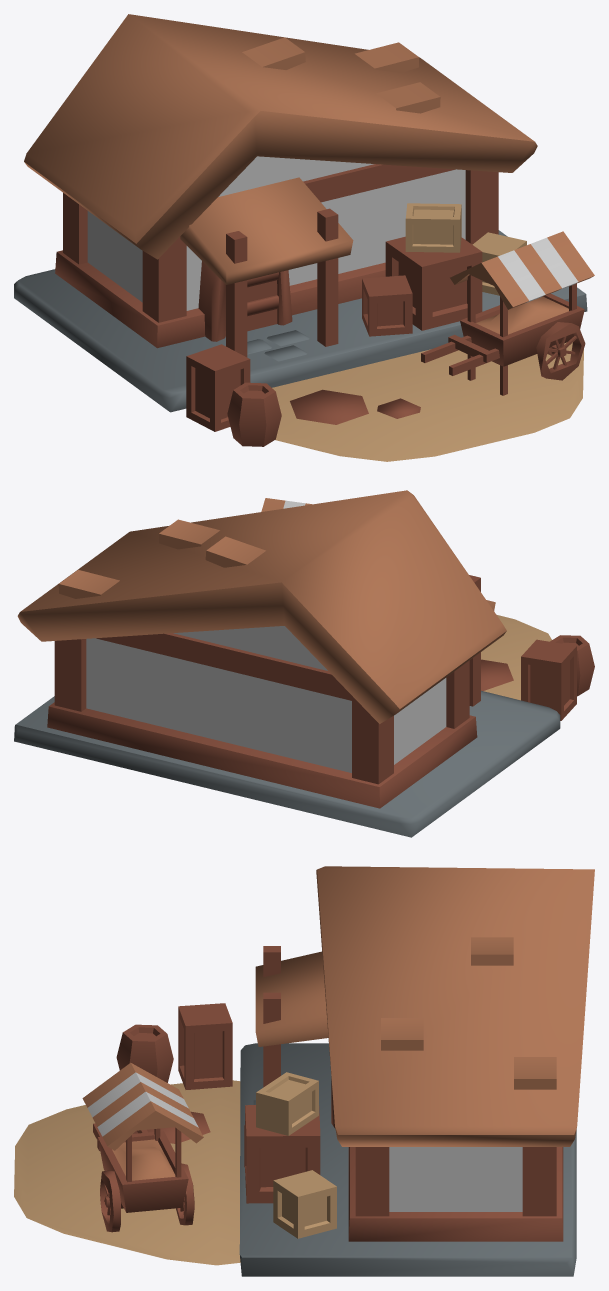
Rendered from shop.glb.
3 renders of one model, top to bottom at view 1: azimuth 30°, elevation 25°; view 2: azimuth 150°, elevation 25°; view 3: azimuth 270°, elevation 25°, orthographic. The views are drawn at different scales.
Visible parts, largest first — view 1: market; view 2: market; view 3: market.
Boxes of the visible parts, box(x1,y1,x2,y2) form: market: box(14, 14, 594, 461); market: box(14, 490, 594, 837); market: box(14, 866, 594, 1276).
Size of the model in its own units: 1.47 by 0.8565 by 1.66.
